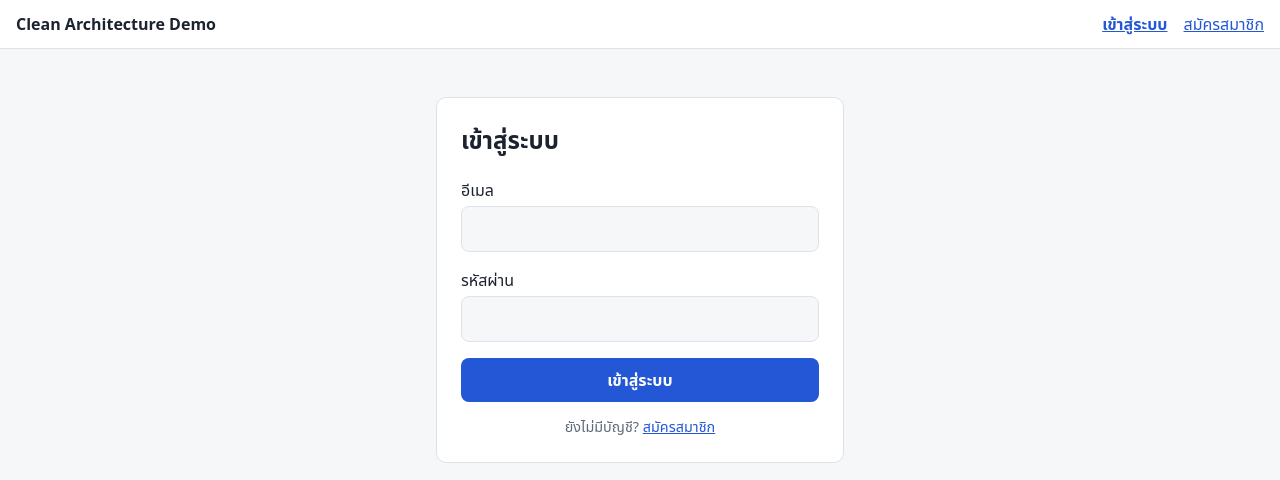
LoginPage › can be filled and submitted with the keyboard alone
Click the field labelled "อีเมล" at (640, 229), box x1=461 y1=206 x2=819 y2=252
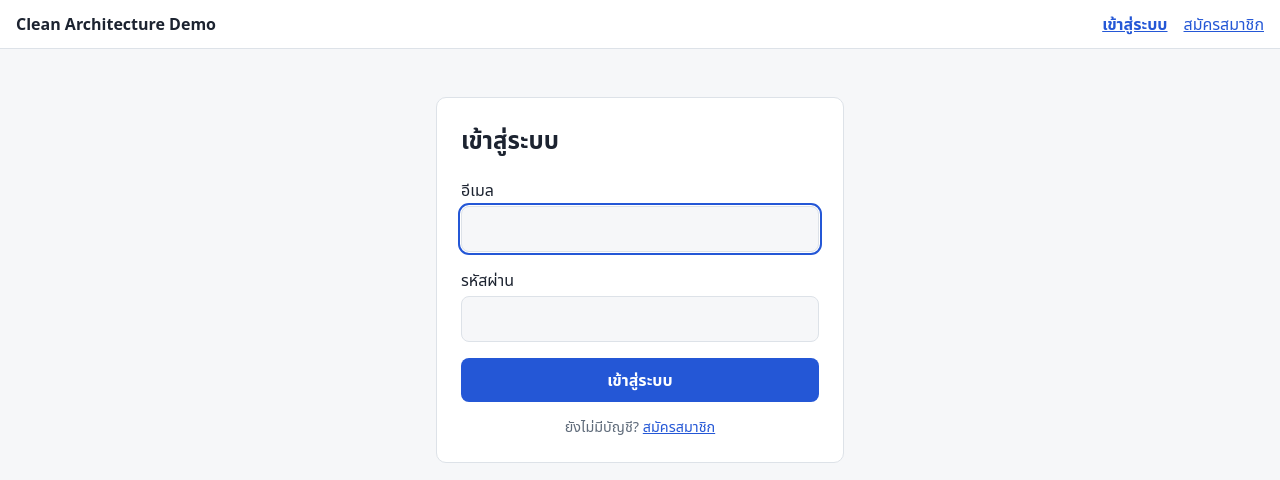
Type keys "jane@example.com"
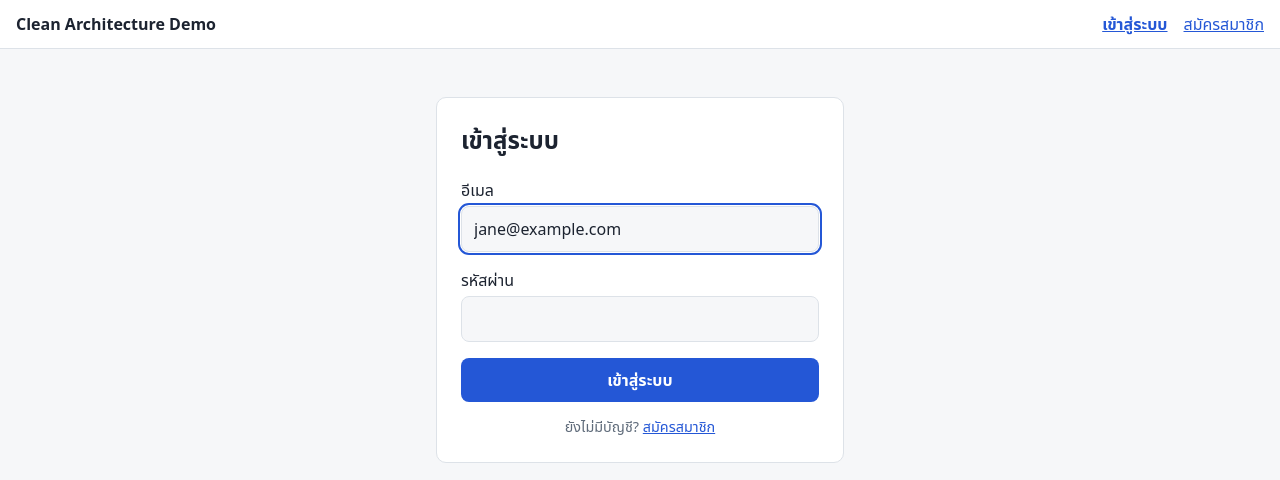
Press Tab
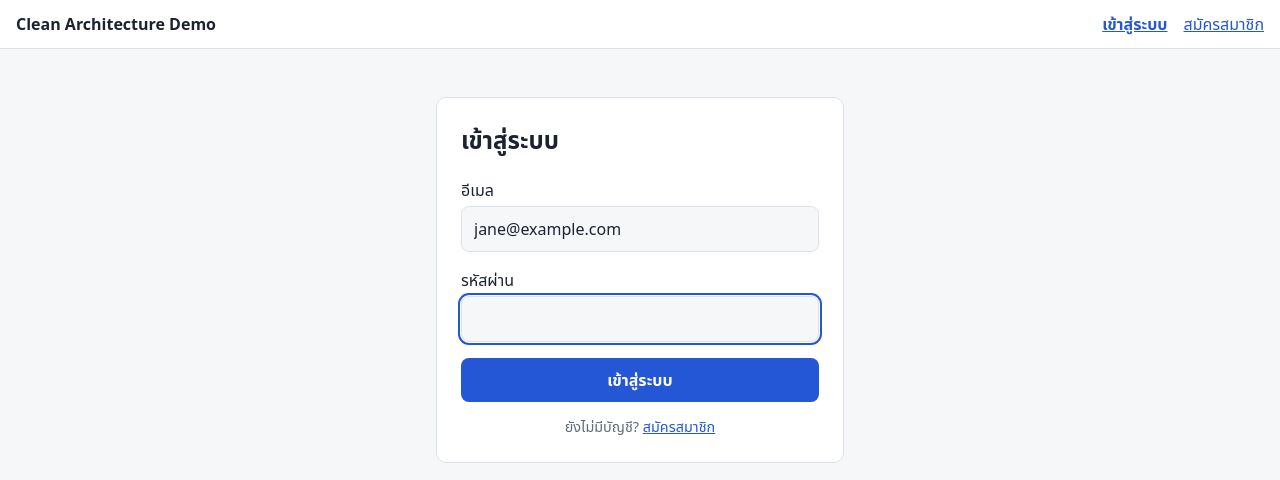
Type keys "s3cret-pass{Enter}"
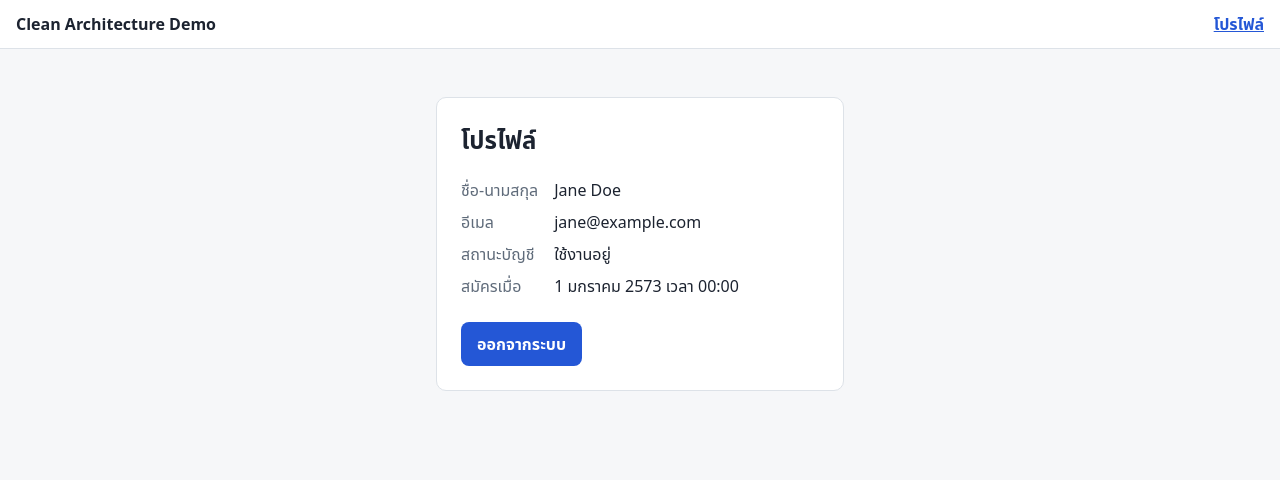
Expected: the text "Jane Doe" is shown, x1=554 y1=179 x2=621 y2=201
